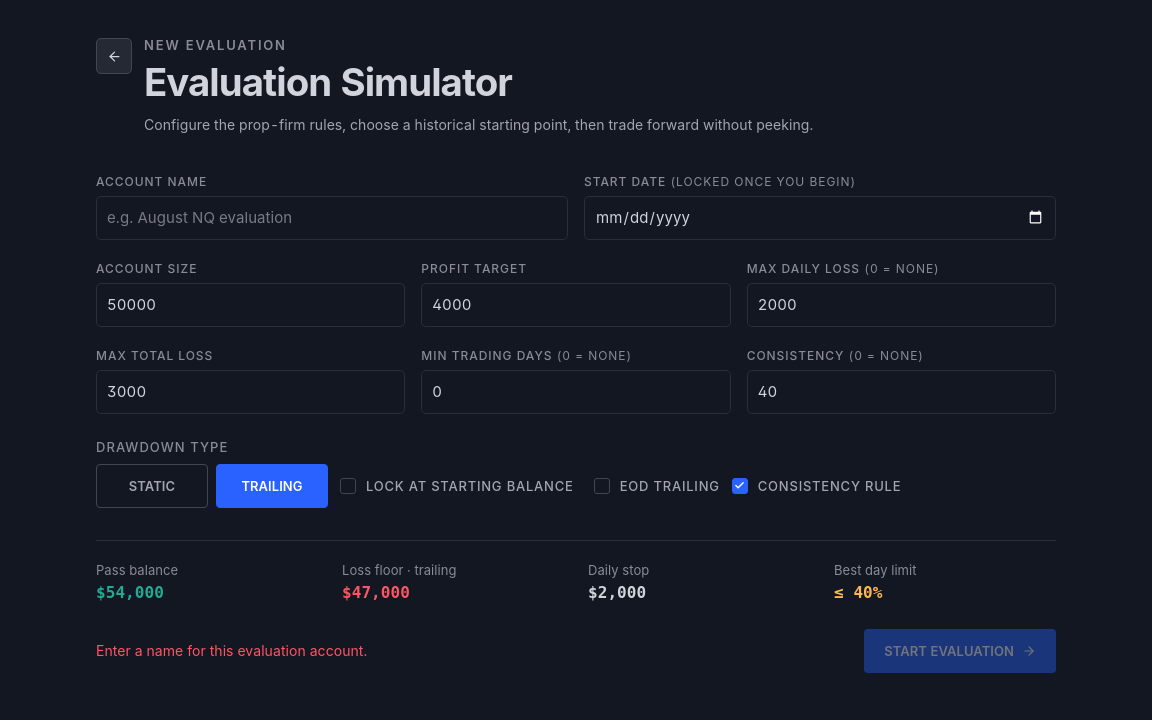
Scenario: EvalSetupScreen › supports disabling and re-enabling the consistency rule
expect the number field labelled "Consistency (0 = none)" holds "40": met, box [747,370,1056,414]
Step 1. Click the text "Consistency rule" → point(830, 486), box [758,477,901,495]
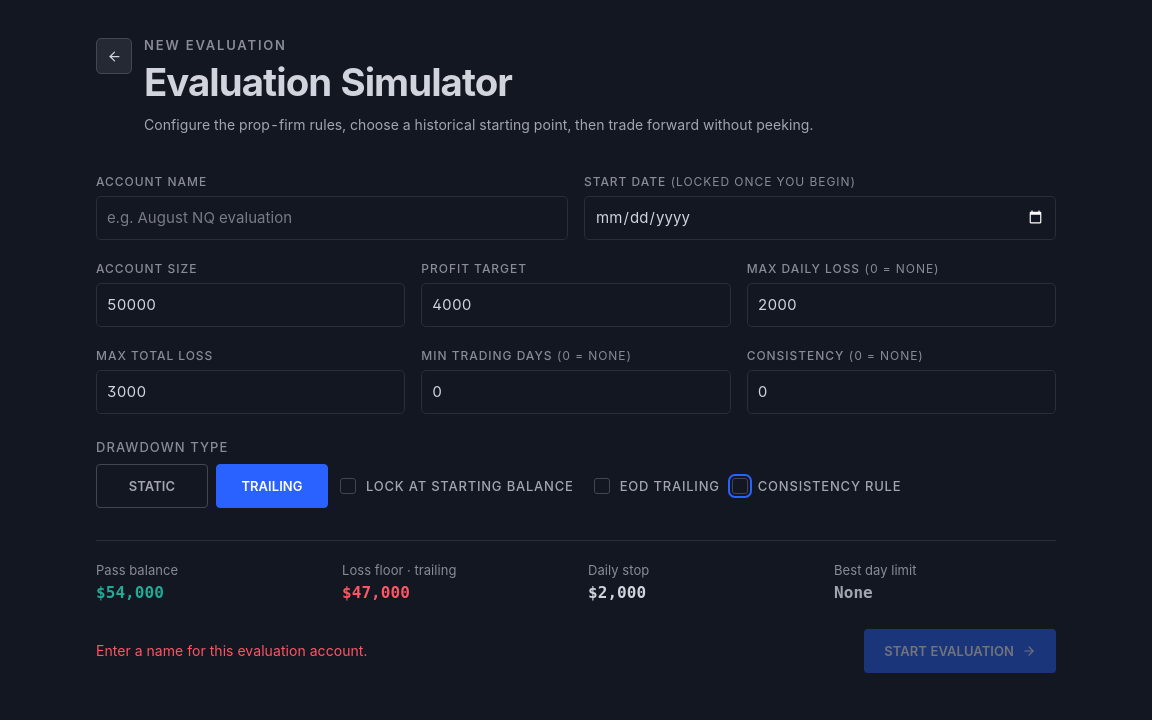
expect the number field labelled "Consistency (0 = none)" holds "0": met, box [747,370,1056,414]
Step 2. Click the text "Consistency rule" → point(830, 486), box [758,477,901,495]
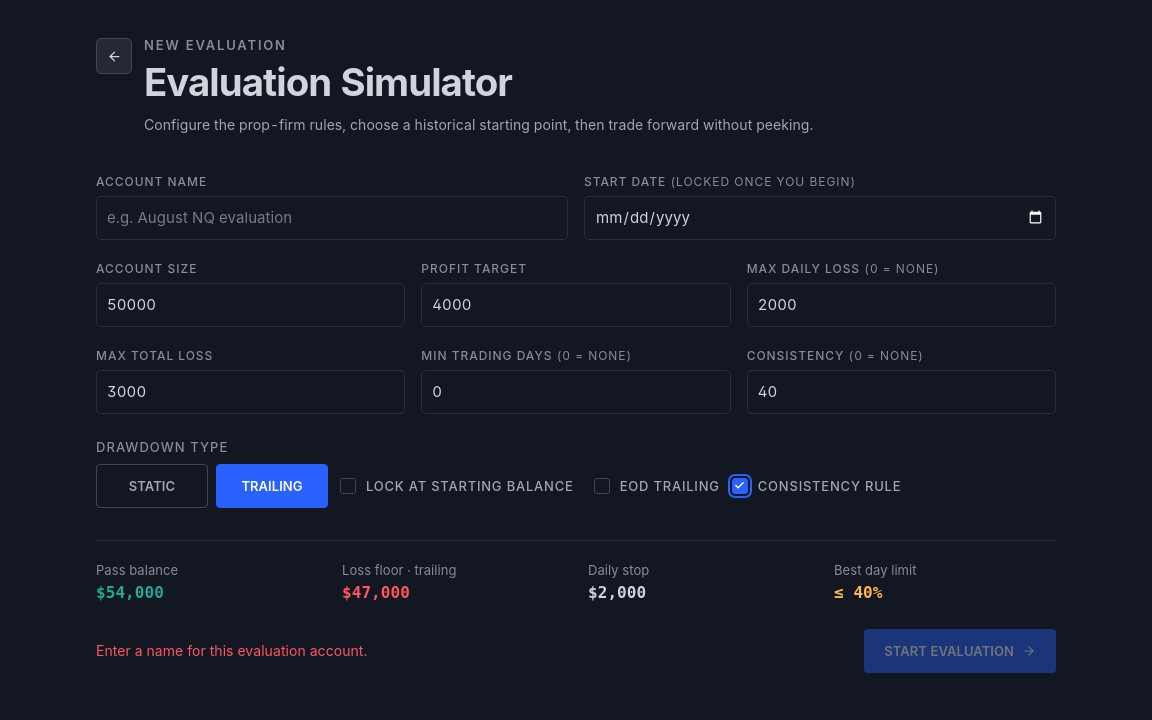
expect the number field labelled "Consistency (0 = none)" holds "40": met, box [747,370,1056,414]
